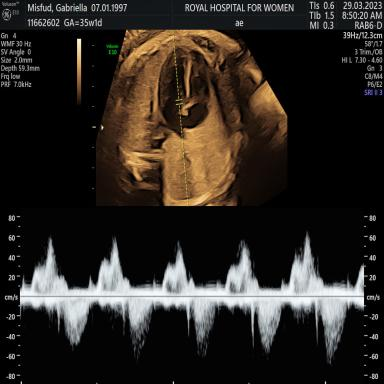Ultrasound-Waves: (26, 214, 362, 384)
